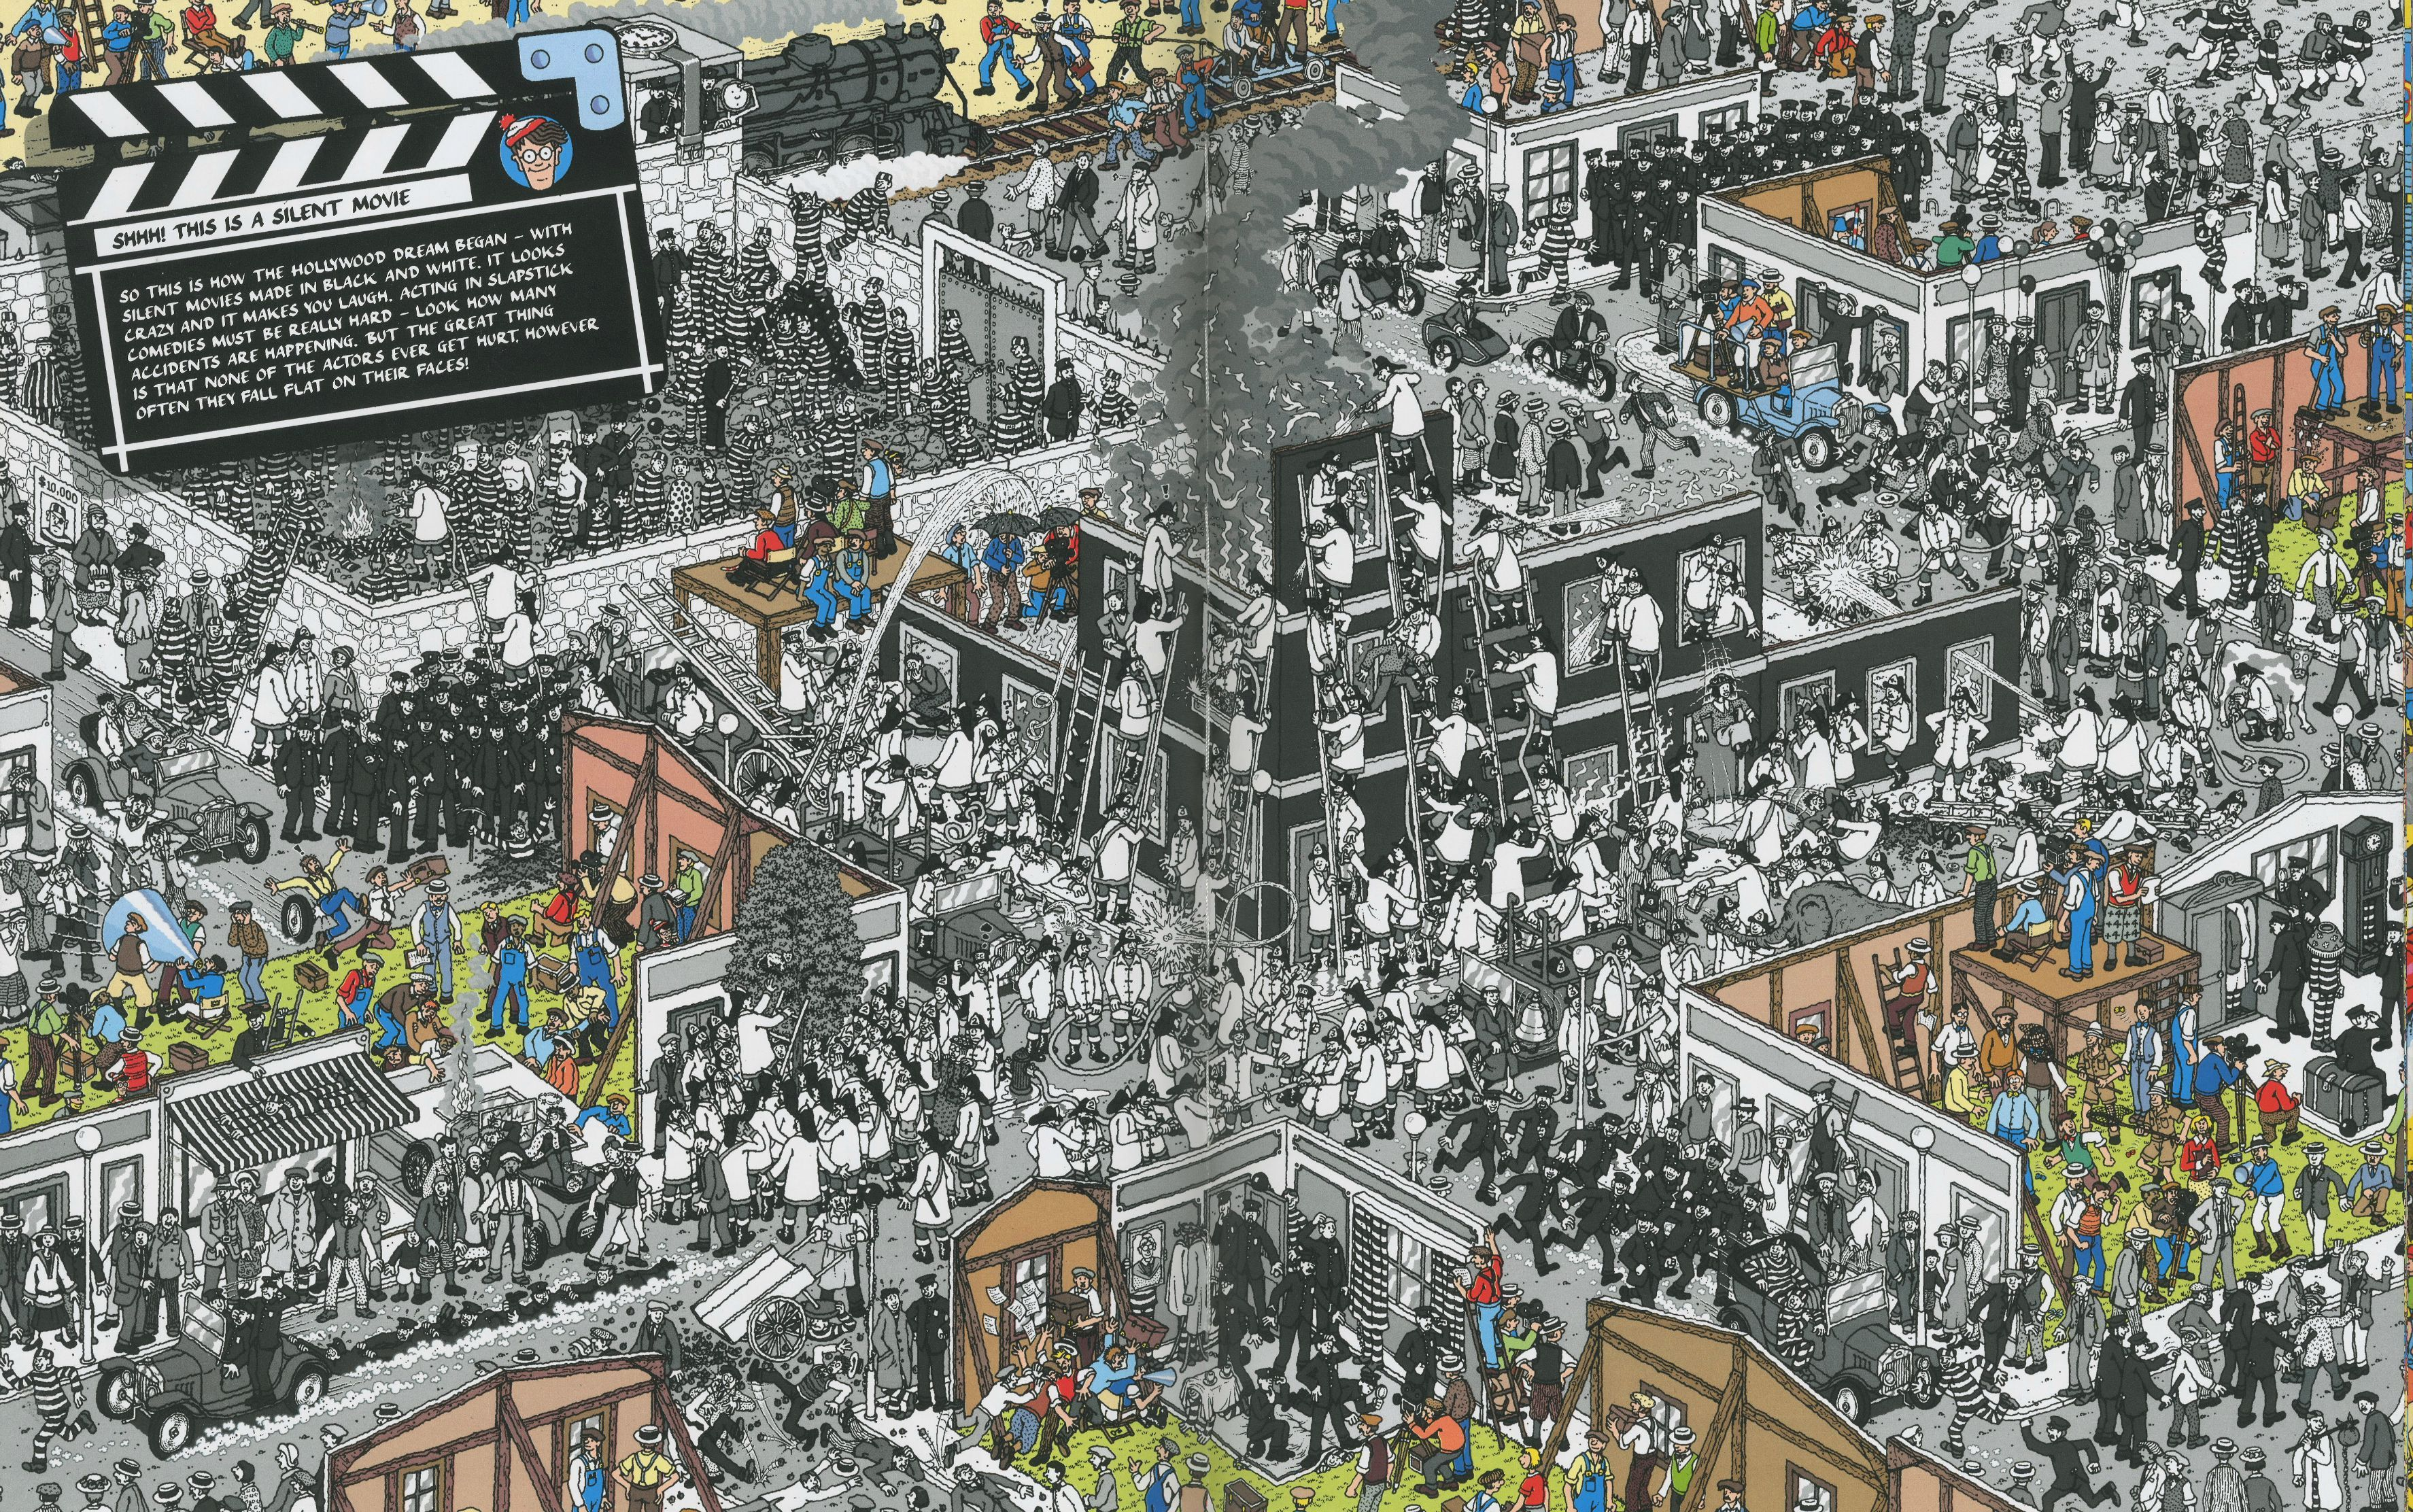Waldo: (497, 110, 573, 188), (105, 1064, 139, 1106)
